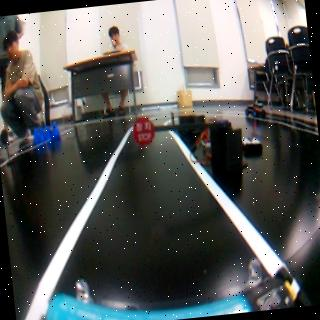stop: (130, 118, 156, 146)
